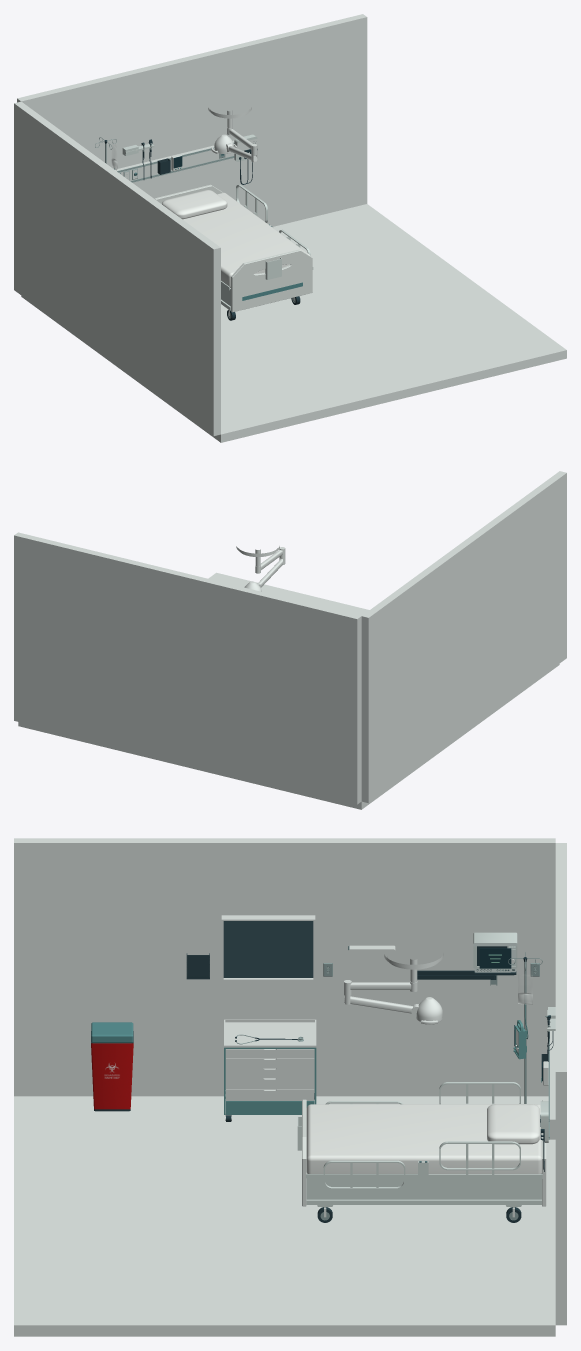
File: ward-room-neutral.glb
3 renders of one model, top to bottom at view 1: azimuth 30°, elevation 25°; view 2: azimuth 150°, elevation 25°; view 3: azimuth 270°, elevation 25°, orthographic. The views are drawn at different scales.
Parts seen in each view (by area): view 1: Mesh1 box Model, Mesh3 box2 Model, Mesh2 box1 Model, Mesh78 Hos_Bed_Footboard_001_1 Hospital_Bed_001_1 Medical_Eq, Mesh66 Matress_Twin_001_5_1 Hospital_Bed_001_1 Medical_Equip, Mesh98 Matress_Twin_001_4_1 Foldable_Bed_Section_001_1 Hospi, Mesh138 box69 Back_Panel_001_1 Medical_Equipment1 Model, Mesh105 Box_With_Curved_Edges_001_1 Foldable_Bed_Section_001; view 2: Mesh3 box2 Model, Mesh2 box1 Model, Mesh1 box Model; view 3: Mesh2 box1 Model, Mesh1 box Model, Mesh66 Matress_Twin_001_5_1 Hospital_Bed_001_1 Medical_Equip, Mesh4 X_Ray_Viewing_Light_001 Medical_Equipment1 Model, Mesh98 Matress_Twin_001_4_1 Foldable_Bed_Section_001_1 Hospi, Mesh3 box2 Model, Mesh58 box28 Hospital_Bed_001_1 Medical_Equipment1 Model, Mesh166 Traash_Can_Body_002_1_1 Biohazard_Bin_001 Medical_Eq, Mesh33 box15 Component_90_1 Drawers_on_Wheels_001 Medical_Eq, Mesh105 Box_With_Curved_Edges_001_1 Foldable_Bed_Section_001, Mesh5 box3 Medical_Equipment1 Model, Mesh67 Bed_Rail_001_1 Hospital_Bed_001_1 Medical_Equipment1  (+11 smaller).
Boxes of the visible parts, x1,y1,x2,y2 form: Mesh1 box Model: (21, 204, 566, 442); Mesh3 box2 Model: (17, 14, 367, 226); Mesh2 box1 Model: (14, 101, 220, 435); Mesh78 Hos_Bed_Footboard_001_1 Hospital_Bed_001_1 Medical_Eq: (231, 249, 312, 312); Mesh66 Matress_Twin_001_5_1 Hospital_Bed_001_1 Medical_Equip: (208, 224, 310, 287); Mesh98 Matress_Twin_001_4_1 Foldable_Bed_Section_001_1 Hospi: (182, 192, 267, 237); Mesh138 box69 Back_Panel_001_1 Medical_Equipment1 Model: (115, 140, 234, 182); Mesh105 Box_With_Curved_Edges_001_1 Foldable_Bed_Section_001: (162, 190, 227, 219); Mesh3 box2 Model: (14, 532, 361, 804); Mesh2 box1 Model: (361, 471, 566, 803); Mesh1 box Model: (18, 572, 559, 809); Mesh2 box1 Model: (14, 838, 555, 1096); Mesh1 box Model: (14, 1096, 555, 1336); Mesh66 Matress_Twin_001_5_1 Hospital_Bed_001_1 Medical_Equip: (306, 1104, 423, 1173); Mesh4 X_Ray_Viewing_Light_001 Medical_Equipment1 Model: (221, 915, 315, 981); Mesh98 Matress_Twin_001_4_1 Foldable_Bed_Section_001_1 Hospi: (423, 1104, 541, 1174); Mesh3 box2 Model: (555, 843, 566, 1325); Mesh58 box28 Hospital_Bed_001_1 Medical_Equipment1 Model: (306, 1178, 541, 1199); Mesh166 Traash_Can_Body_002_1_1 Biohazard_Bin_001 Medical_Eq: (91, 1031, 133, 1111); Mesh33 box15 Component_90_1 Drawers_on_Wheels_001 Medical_Eq: (224, 1022, 316, 1048); Mesh105 Box_With_Curved_Edges_001_1 Foldable_Bed_Section_001: (487, 1104, 539, 1144); Mesh5 box3 Medical_Equipment1 Model: (348, 945, 395, 980); Mesh67 Bed_Rail_001_1 Hospital_Bed_001_1 Medical_Equipment1 : (306, 1199, 541, 1204).
Size of the model in its own units: 205 by 108 by 205.
Materials: 70 (1 with a texture image).
